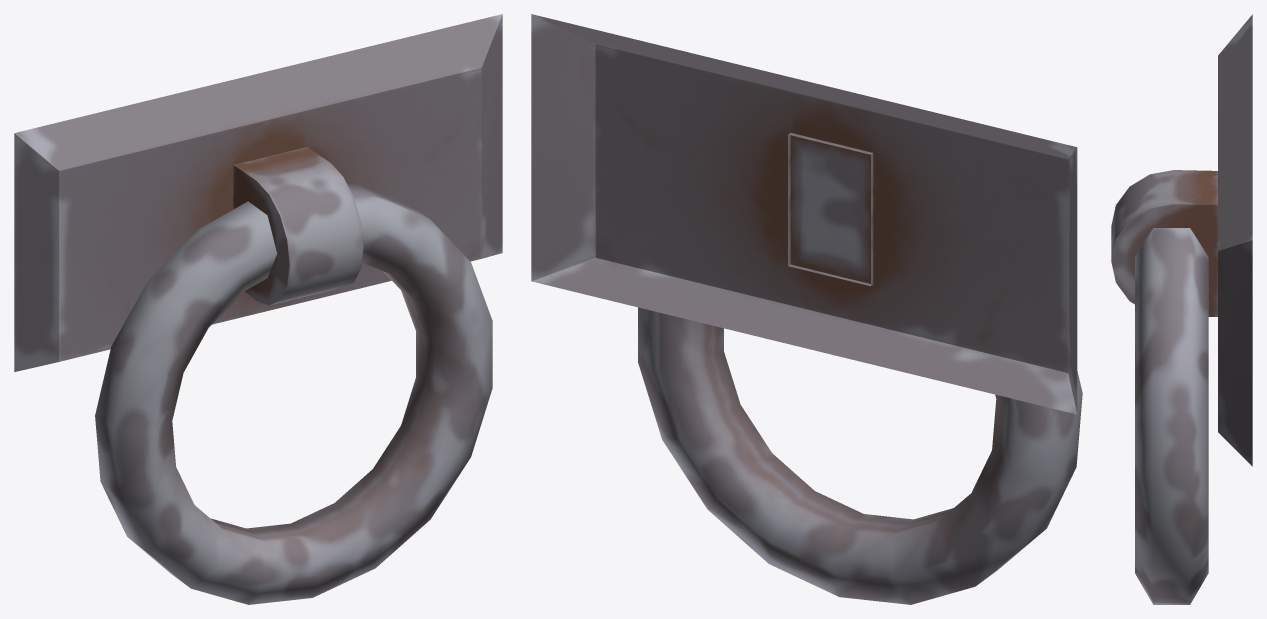
File: Parts_Handle_Round.fbx
The picture shows the model from 3 angles, left to right: view 1: azimuth 30°, elevation 25°; view 2: azimuth 150°, elevation 25°; view 3: azimuth 270°, elevation 25°; orthographic projection. The views are drawn at different scales.
Parts seen in each view (by area): view 1: Parts_Handle_Round; view 2: Parts_Handle_Round; view 3: Parts_Handle_Round.
Part boxes in pixels (x1,y1,x2,y2): Parts_Handle_Round: [14, 14, 502, 604]; Parts_Handle_Round: [531, 14, 1082, 604]; Parts_Handle_Round: [1111, 14, 1252, 604].
Bounding box in the file's own units: 14.73 × 14.02 × 3.9.
